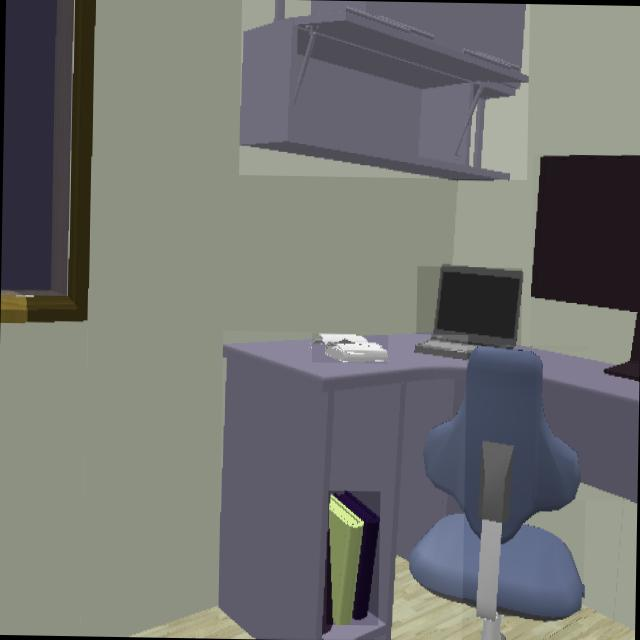book: (329, 491, 380, 625), (313, 333, 387, 362)
cabinet: (239, 0, 528, 179)
chair: (411, 346, 582, 640)
laptop: (416, 266, 522, 358)
monitor: (530, 156, 640, 380)
table: (218, 334, 466, 638), (538, 350, 639, 501)
